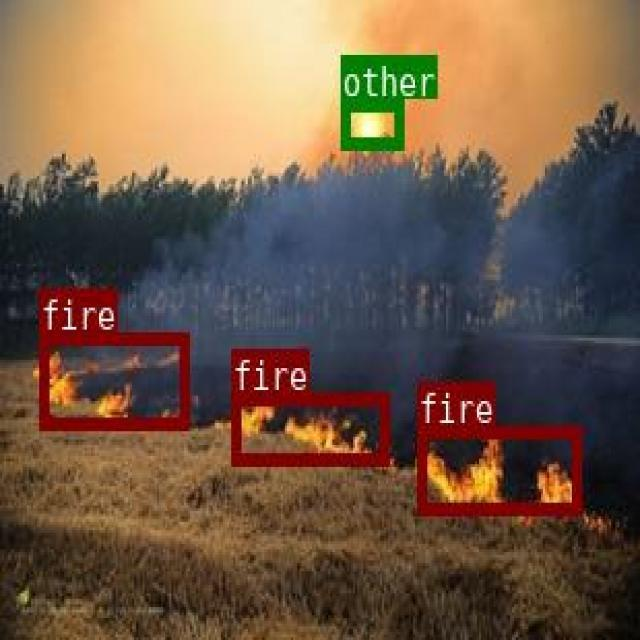fire: (39, 331, 187, 426), (417, 425, 580, 511), (231, 393, 388, 463)
